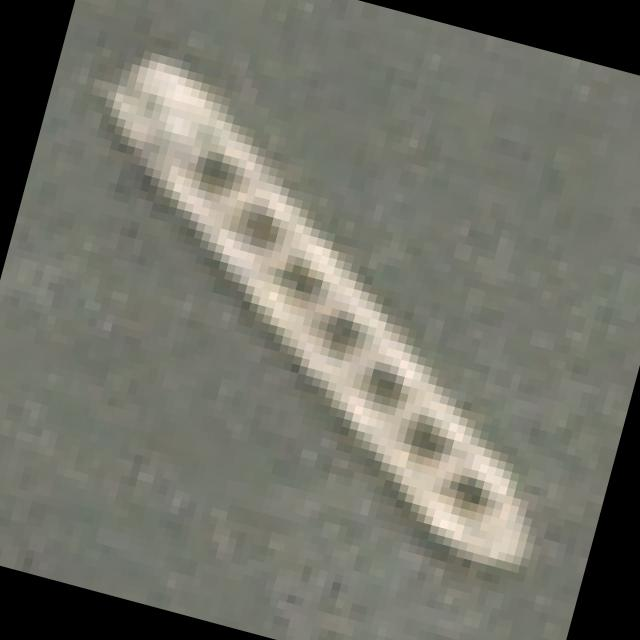ship: (0, 16, 640, 597)
